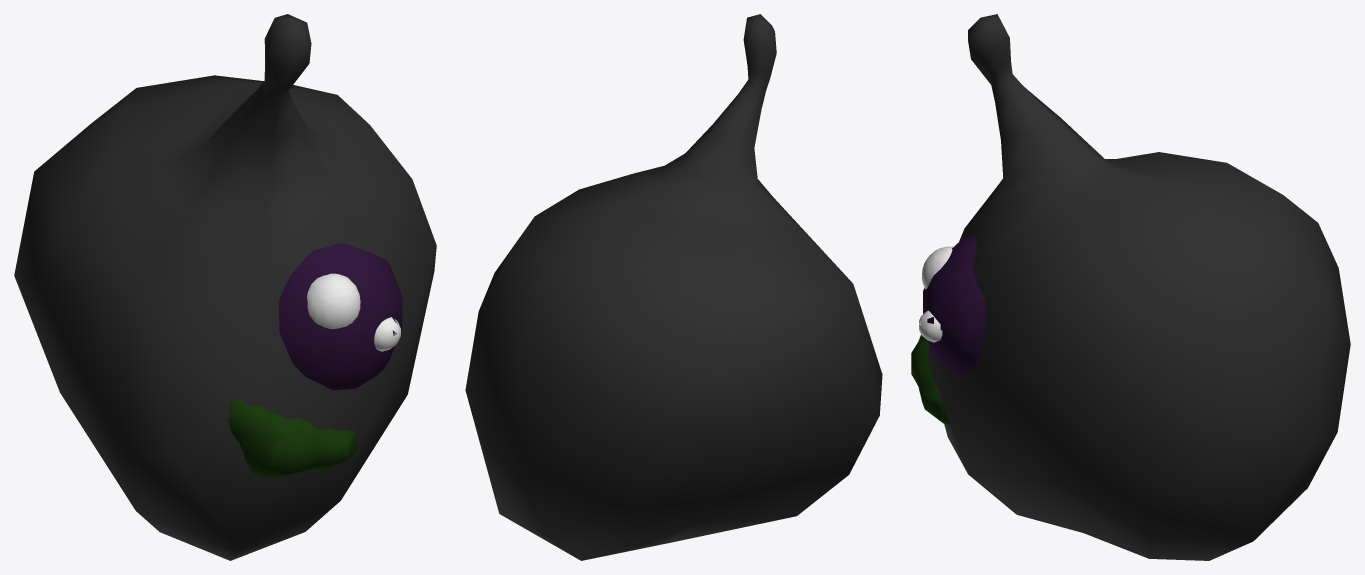
The model's file is trashbag.fbx.
3 views of the same model, side by side, from view 1: azimuth 30°, elevation 25°; view 2: azimuth 150°, elevation 25°; view 3: azimuth 270°, elevation 25° (orthographic). The views are drawn at different scales.
Visible parts, largest first — view 1: BinBag, eye ball, mouth, pupil; view 2: BinBag; view 3: BinBag, eye ball, mouth, pupil.
Part boxes in pixels (x1=…): BinBag: x1=14, y1=14, x2=436, y2=560; eye ball: x1=278, y1=243, x2=402, y2=390; mouth: x1=228, y1=400, x2=357, y2=478; pupil: x1=307, y1=273, x2=400, y2=351; BinBag: x1=465, y1=14, x2=882, y2=560; BinBag: x1=927, y1=14, x2=1350, y2=560; eye ball: x1=923, y1=234, x2=986, y2=378; mouth: x1=911, y1=335, x2=950, y2=425; pupil: x1=919, y1=246, x2=953, y2=342.
Size of the model in its own units: 209 by 294 by 234.
